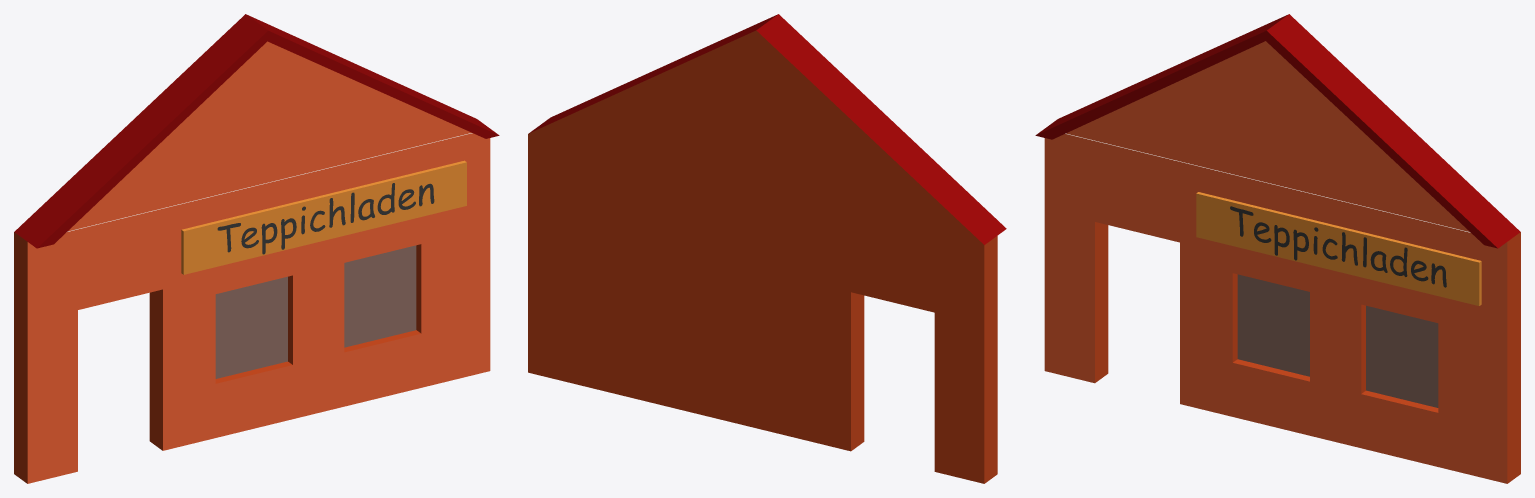
The model's file is haus.dae.
The picture shows the model from 3 angles, left to right: view 1: azimuth 30°, elevation 25°; view 2: azimuth 150°, elevation 25°; view 3: azimuth 330°, elevation 25°; orthographic projection.
Parts seen in each view (by area): view 1: SketchUp (×9); view 2: SketchUp (×2); view 3: SketchUp (×9).
Boxes of the visible parts, x1,y1,x2,y2 form: SketchUp (×9): (14,14,499,483); SketchUp (×2): (528,14,1006,483); SketchUp (×9): (1035,14,1520,483).
Size of the model in its own units: 236 by 20.08 by 197.
